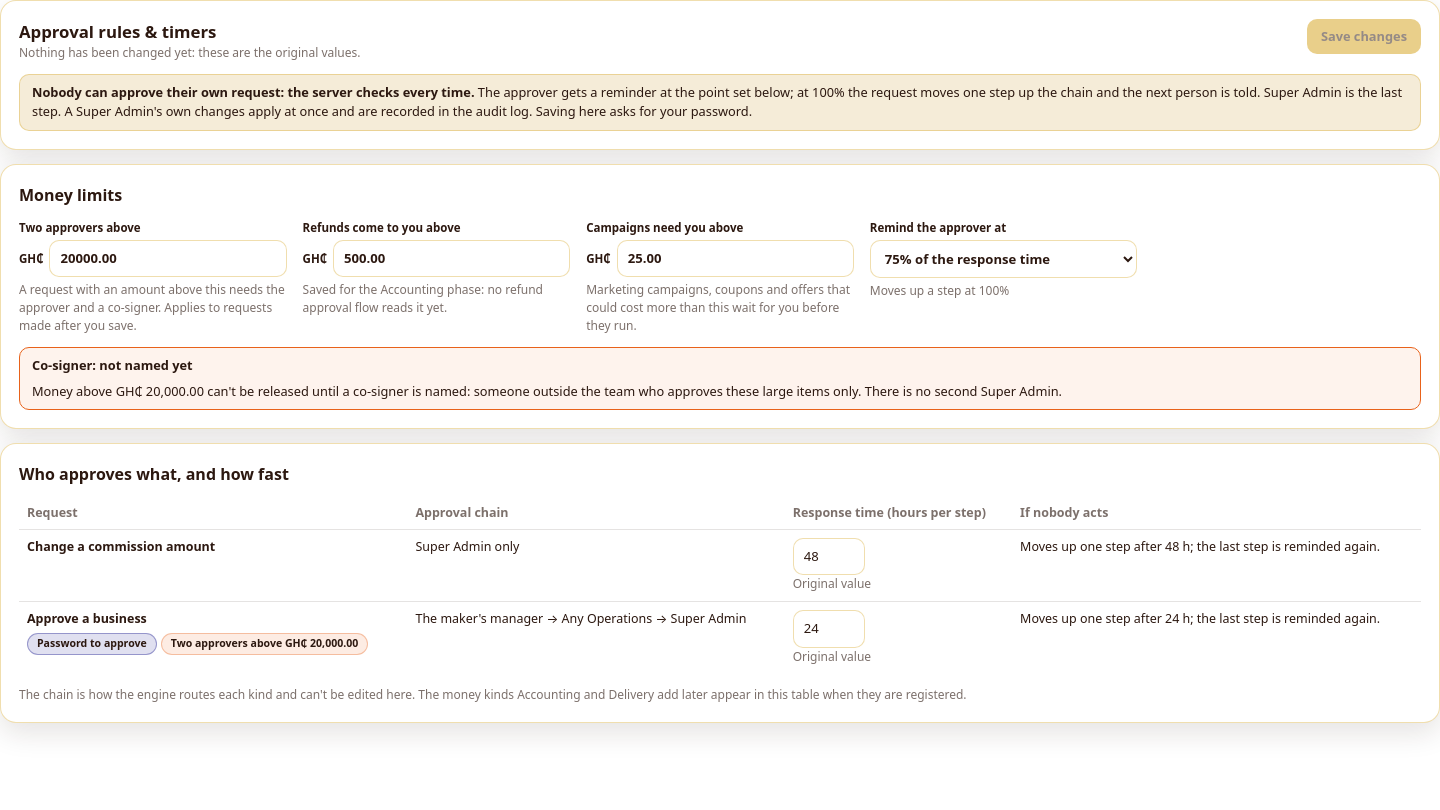
it: ApprovalRulesPanel › shows the server refusal and keeps the edit
Replace the text in the field named "Response time for Approve a business (hours)" with "0" at (829, 629), box [793,610,865,648]
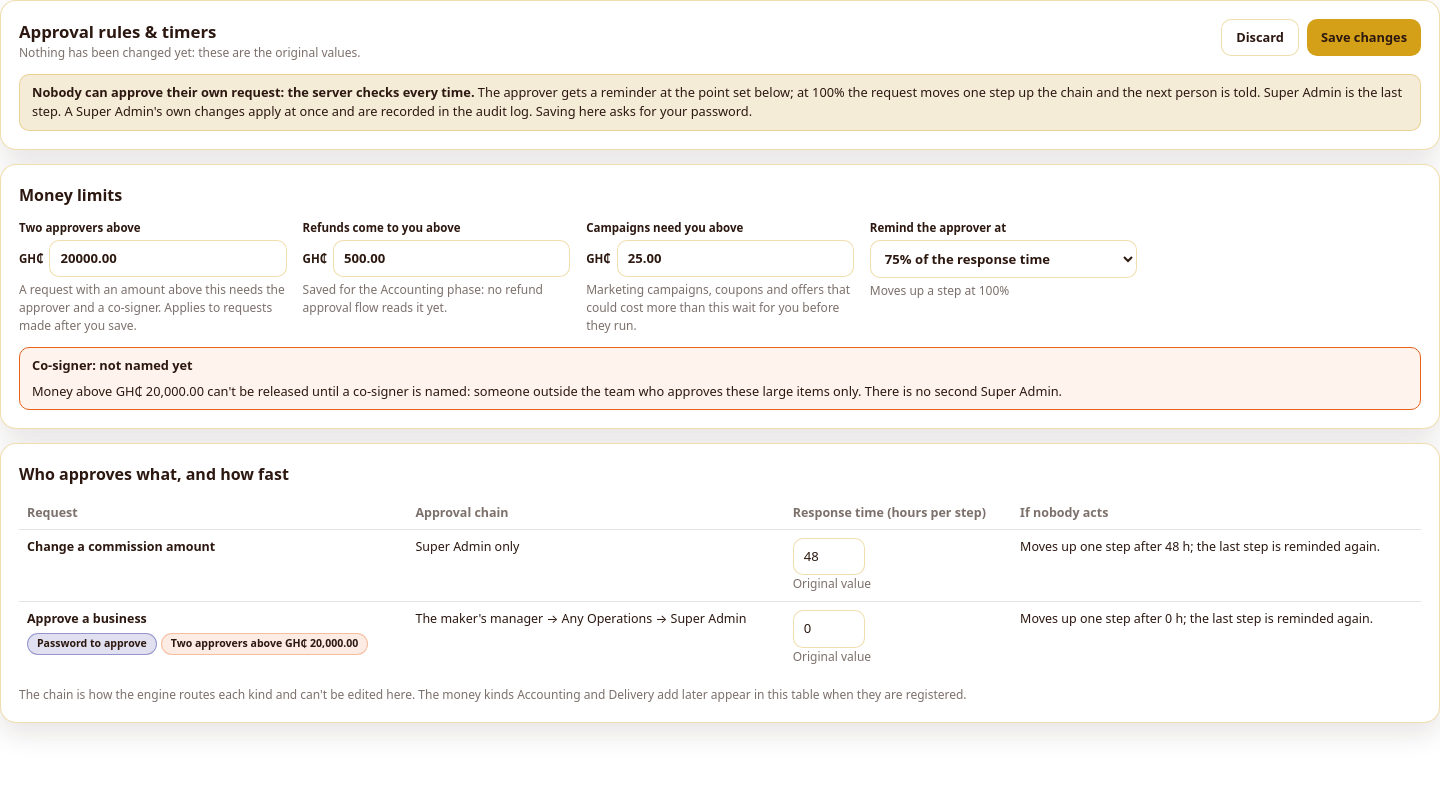
Click the button "Save changes" at (1364, 38), box [1307,19,1421,56]
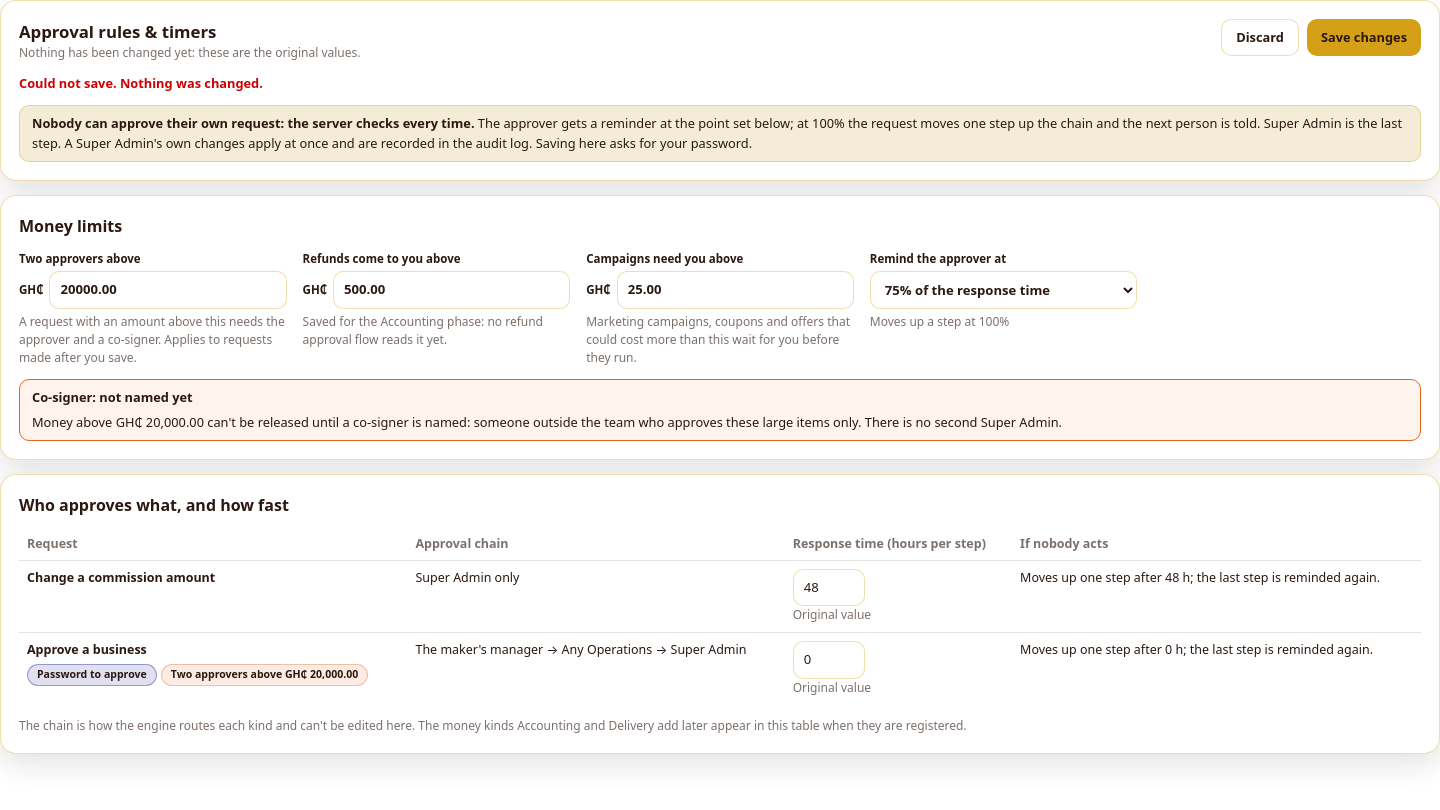
Check: the message "Could not save. Nothing was changed." is shown, box [19,74,263,92]
